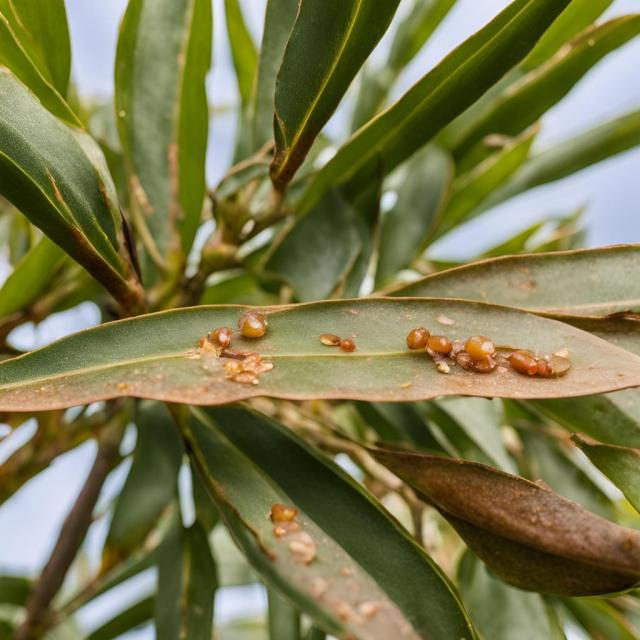Black Scale: (0, 298, 639, 411), (251, 494, 379, 618)
